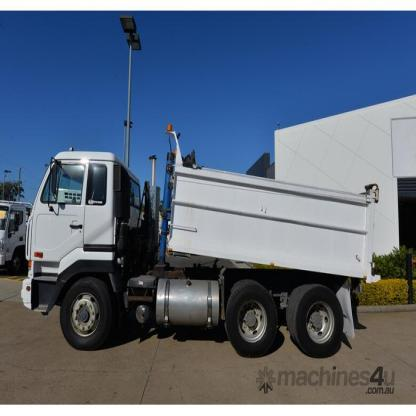dump_truck: (16, 125, 386, 358)
